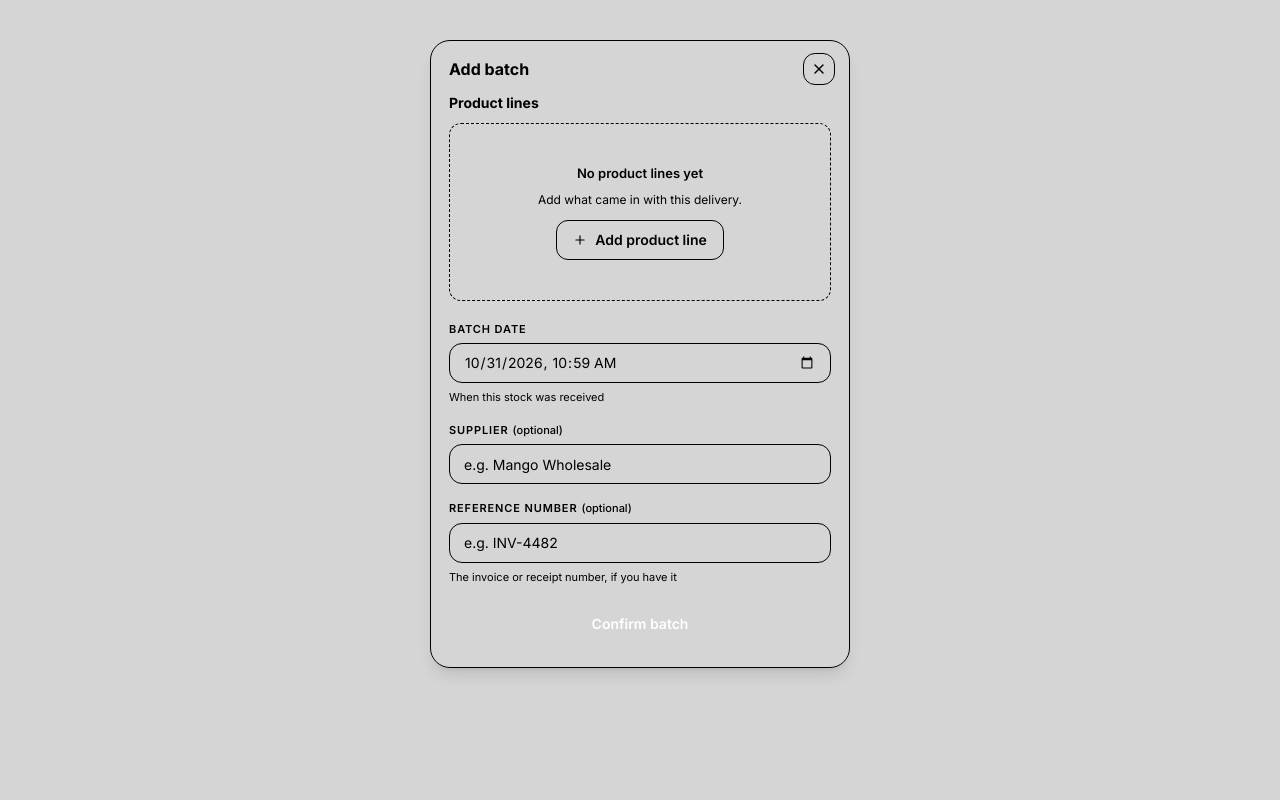
AddBatchSheet › shows an error and does not confirm when the batch date is cleared
The width and height of the screenshot is (1280, 800).
Clear the field labelled "Batch date": (640, 363) [449,343,831,383]
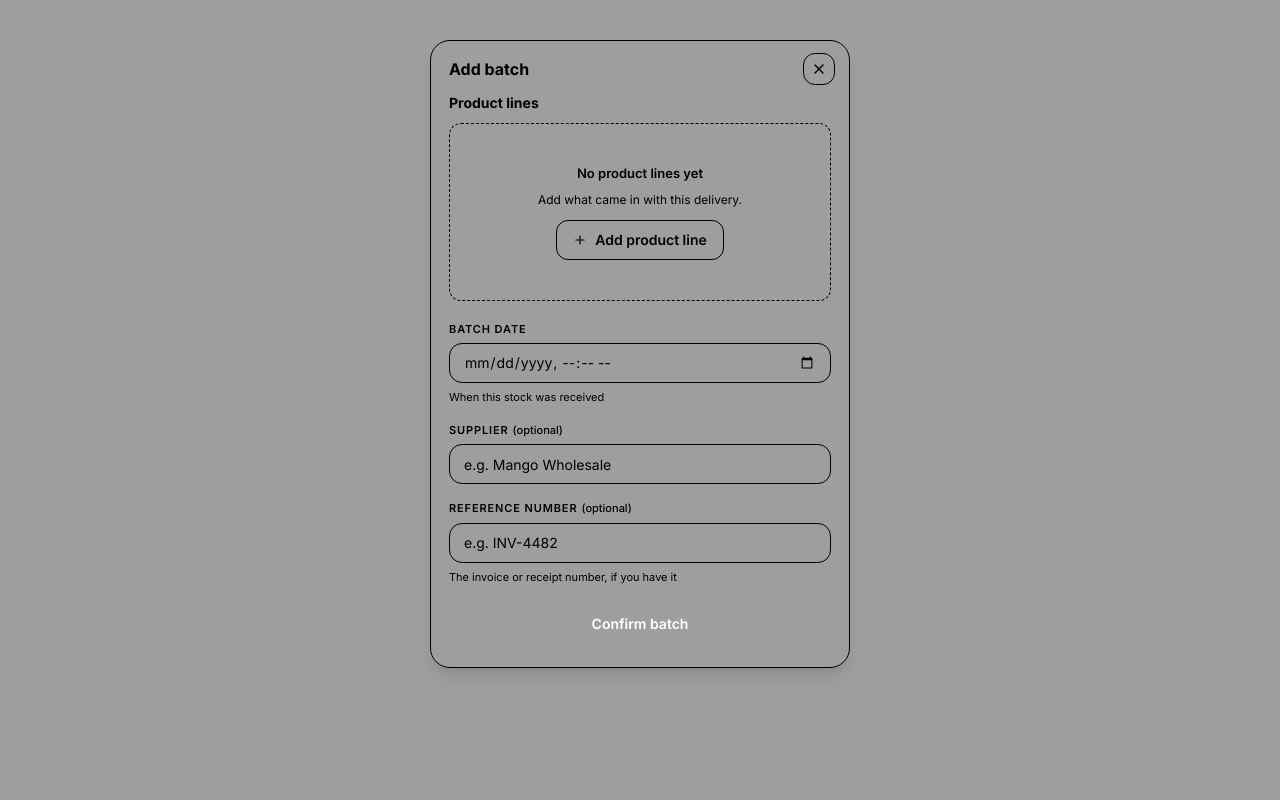
Click the button "Confirm batch": click(640, 624) [449,605,831,643]
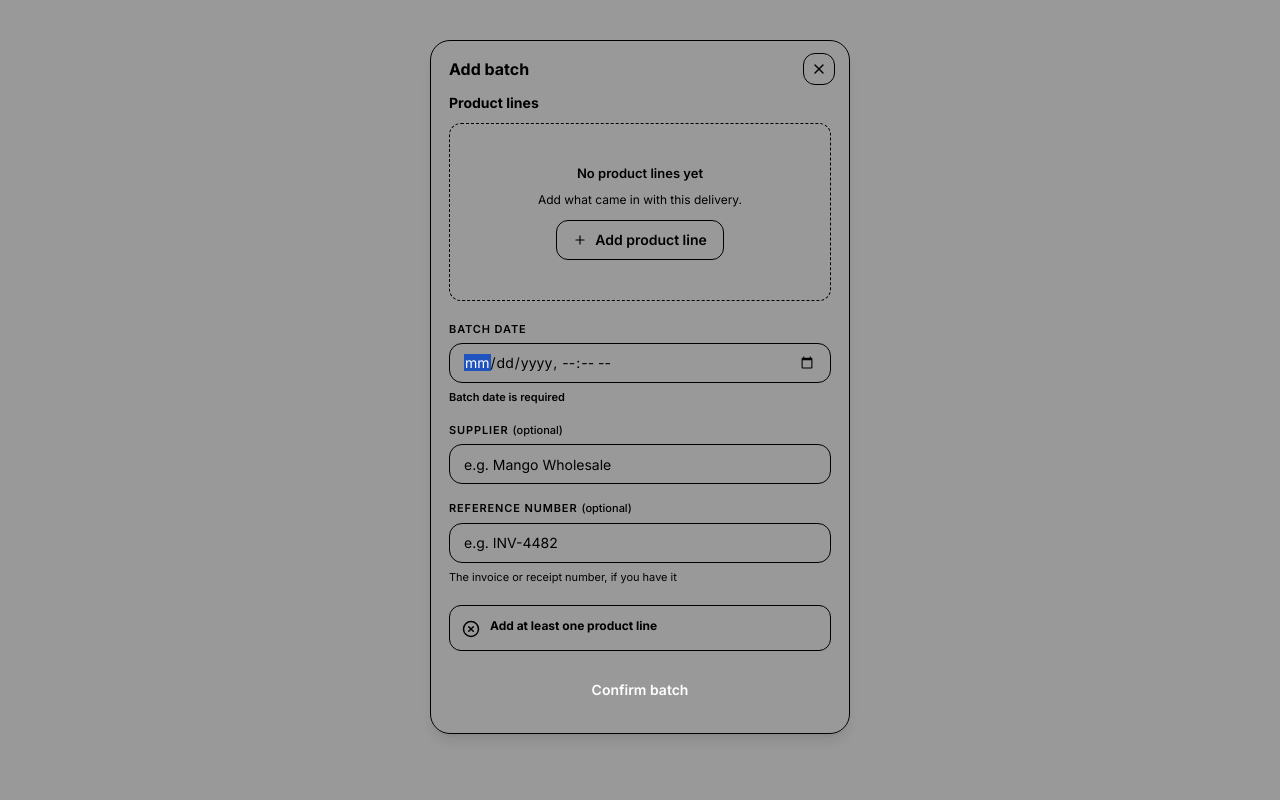
Check: the text "Batch date is required" is shown, box [449,390,565,404]
